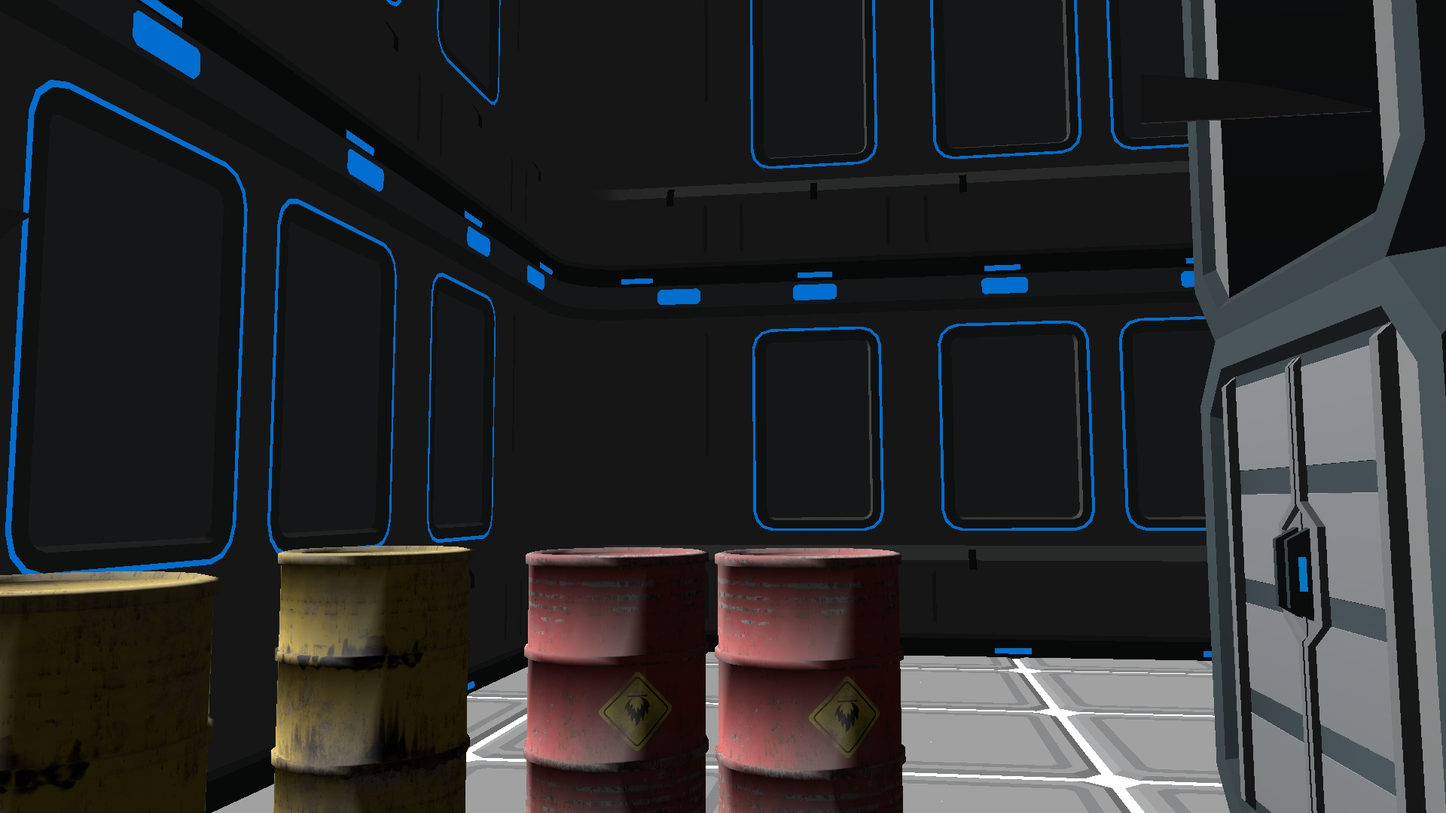toxic barrel: (271, 546, 471, 813), (0, 571, 219, 813), (715, 548, 907, 813), (523, 546, 710, 813)
